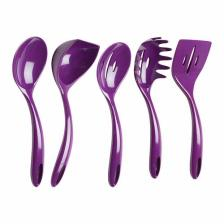purple: (51, 39, 99, 187), (172, 40, 212, 179), (134, 37, 172, 179), (12, 37, 47, 187), (97, 42, 131, 187)
